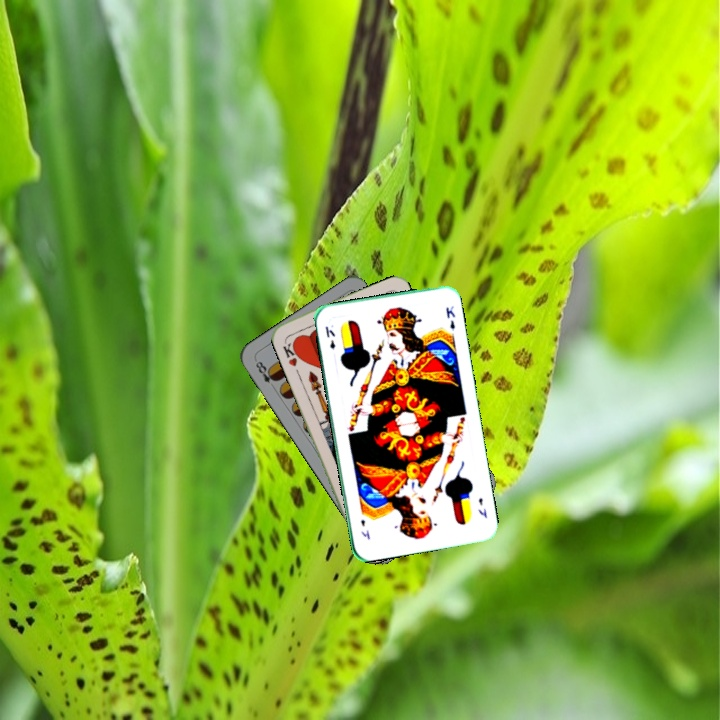E8: (251, 356, 280, 386)
EK: (321, 322, 338, 352), (474, 494, 489, 521)
HK: (279, 335, 304, 369)
